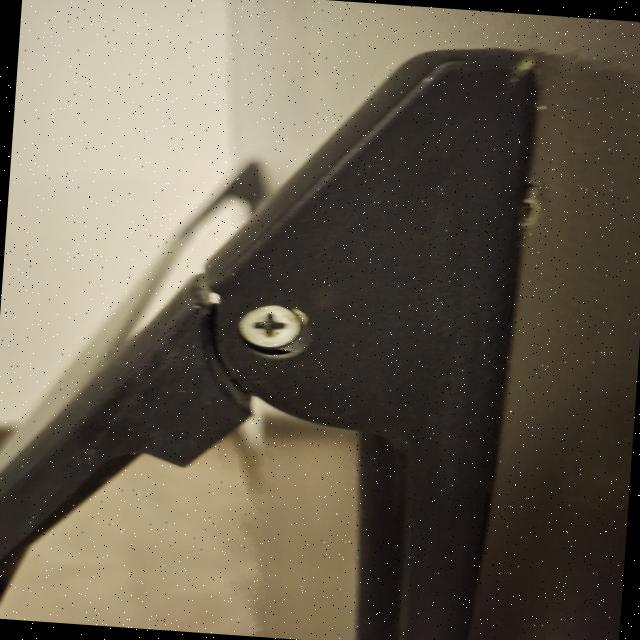Phillips: (228, 299, 316, 362)
